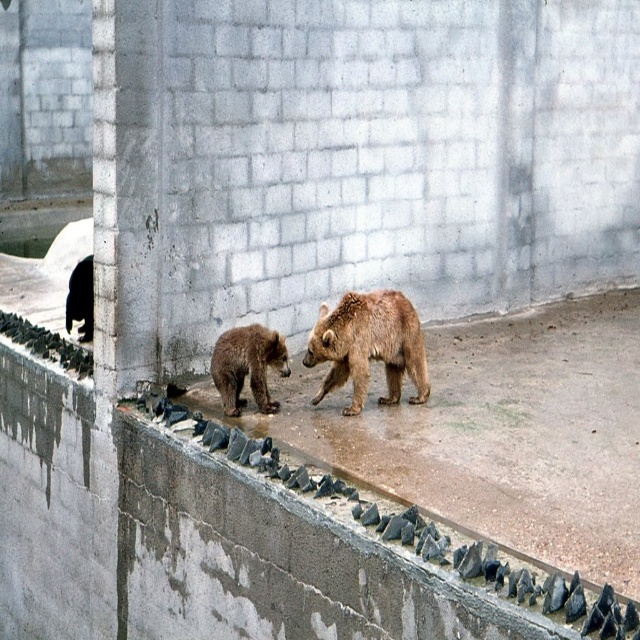Brown bear: (302, 287, 432, 416), (206, 320, 292, 418)
